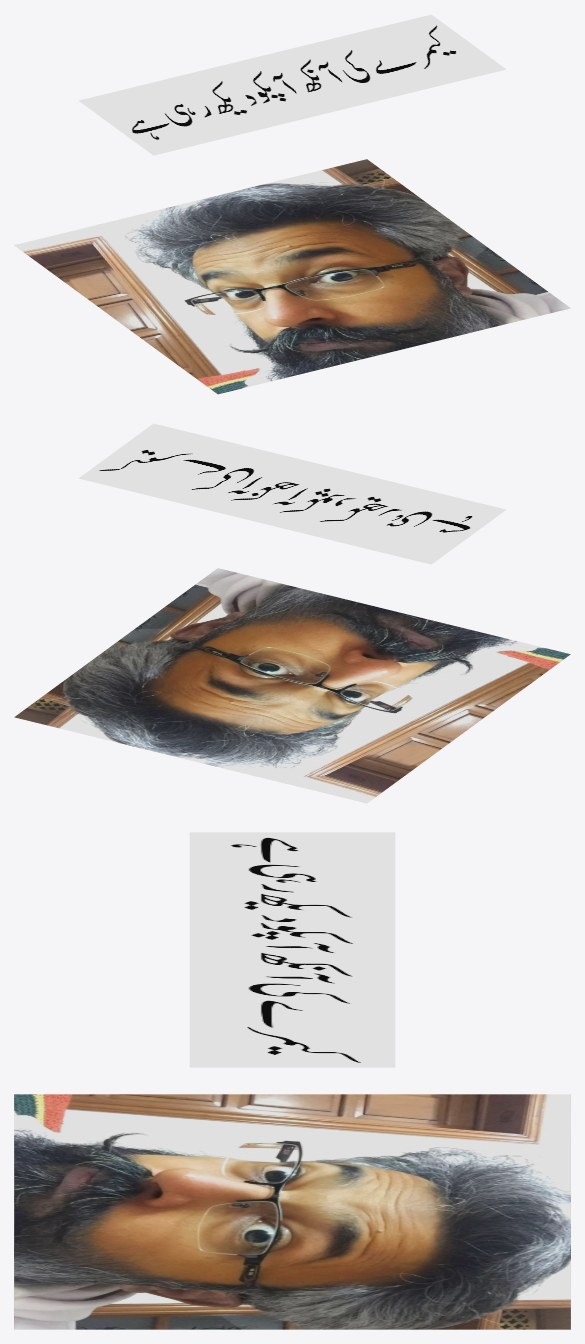
Rendered from Yasir.fbx.
3 renders of one model, top to bottom at view 1: azimuth 30°, elevation 25°; view 2: azimuth 150°, elevation 25°; view 3: azimuth 270°, elevation 25°, orthographic. The views are drawn at different scales.
Parts seen in each view (by area): view 1: Plane, Plane.001; view 2: Plane, Plane.001; view 3: Plane, Plane.001.
Part boxes in pixels (<box>): Plane: <box>14,159,570,394</box>; Plane.001: <box>79,14,506,155</box>; Plane: <box>14,568,570,803</box>; Plane.001: <box>78,423,505,564</box>; Plane: <box>14,1094,570,1329</box>; Plane.001: <box>189,832,395,1067</box>.
Size of the model in its own units: 423 by 219 by 423.
2 materials, 2 textured.
